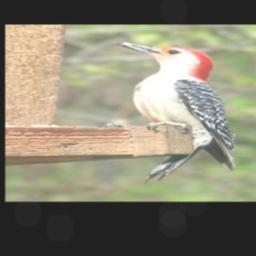Woodpecker: (112, 39, 234, 183)
